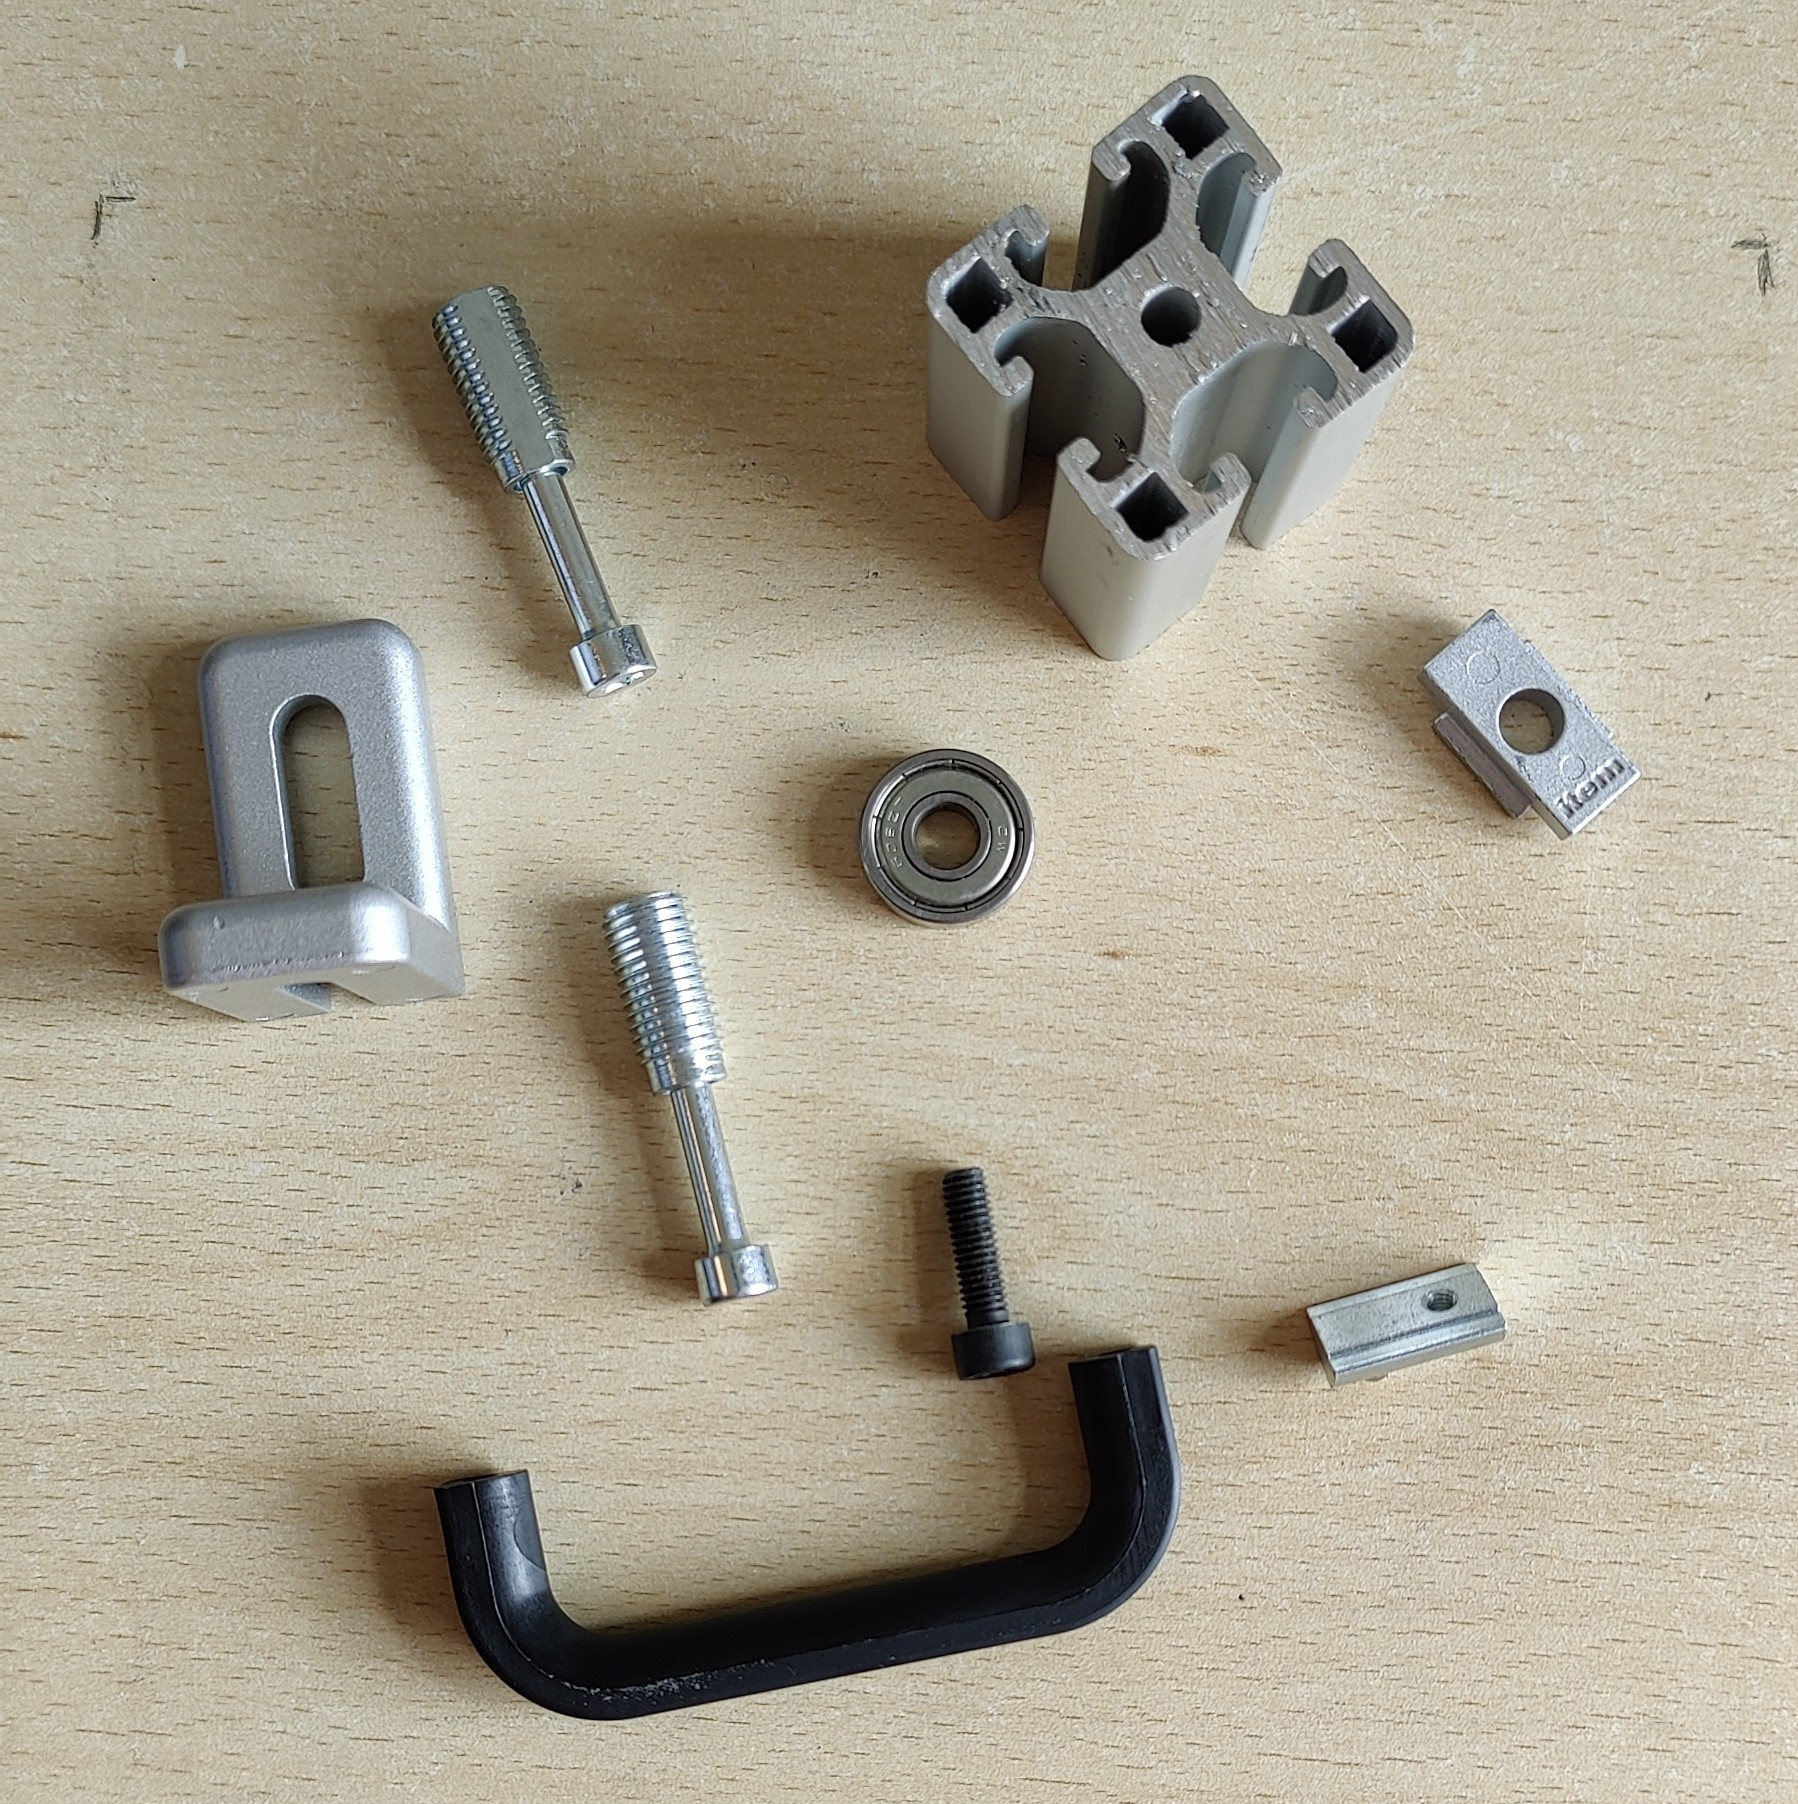Aluminium Extension: (922, 72, 1418, 663)
Ball Bearing: (856, 747, 1037, 933)
Multiwinkel: (155, 614, 469, 1025)
Pull Handle: (430, 1341, 1185, 1723)
Shoulder Socket Head Cap Screw: (430, 281, 660, 704), (594, 890, 780, 1310)
Socket Head Cap Screw: (939, 1167, 1039, 1384)
T Nut Square: (1413, 606, 1643, 844)
T Spring Nut: (1302, 1259, 1507, 1396)
